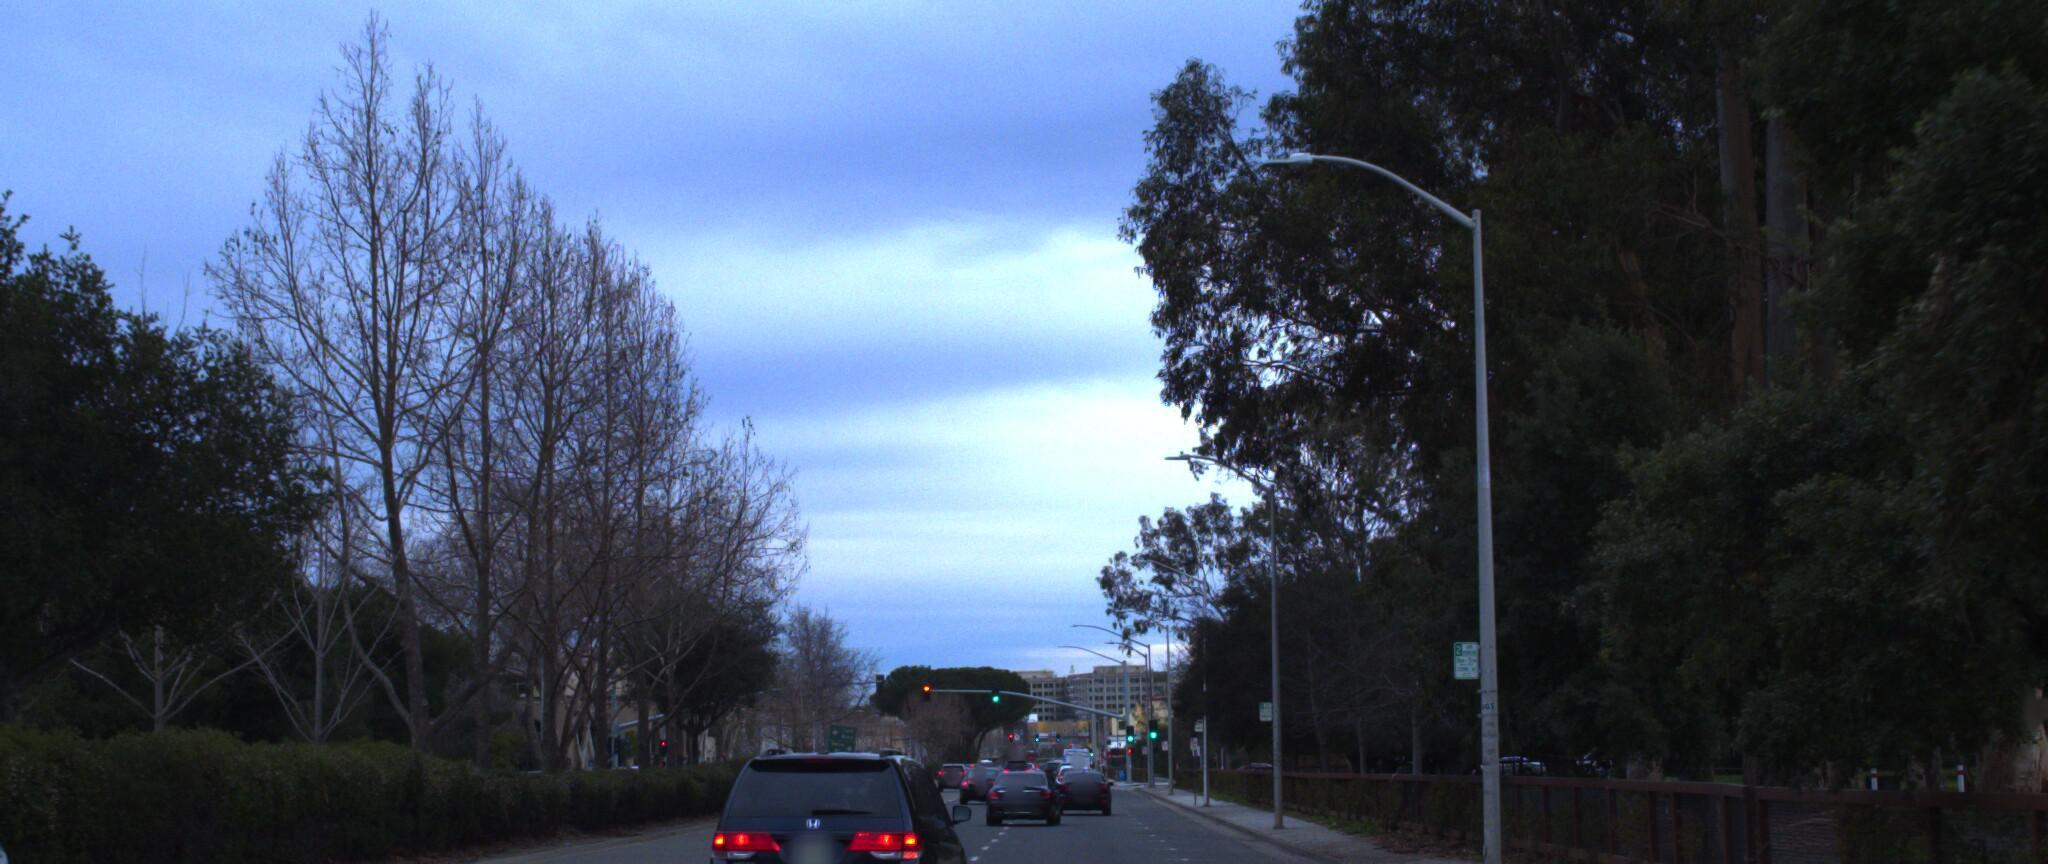car: (700, 741, 977, 864), (0, 668, 48, 864), (972, 747, 1053, 814)
